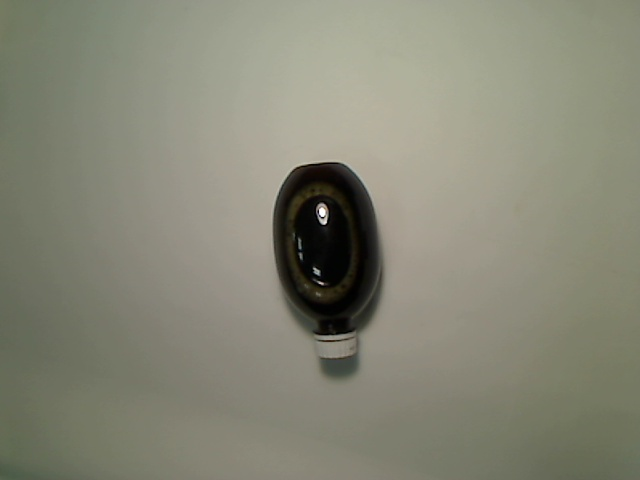plast_bottle: (271, 161, 381, 362)
